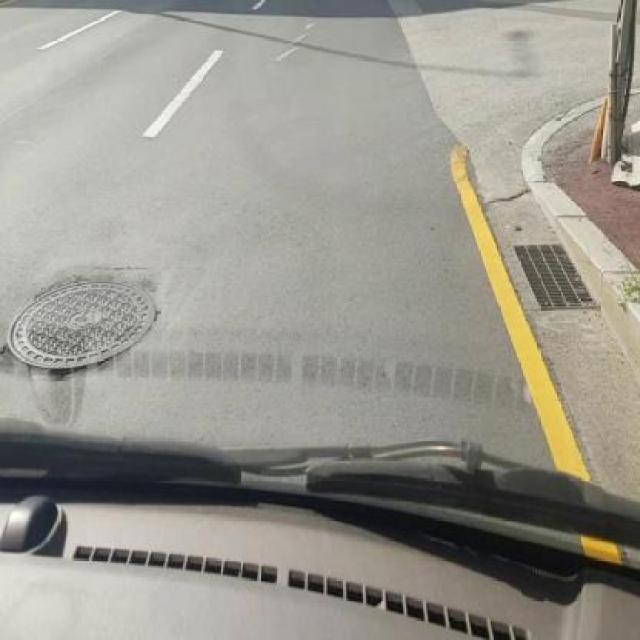Manhole: (0, 275, 160, 377), (509, 239, 611, 321)
